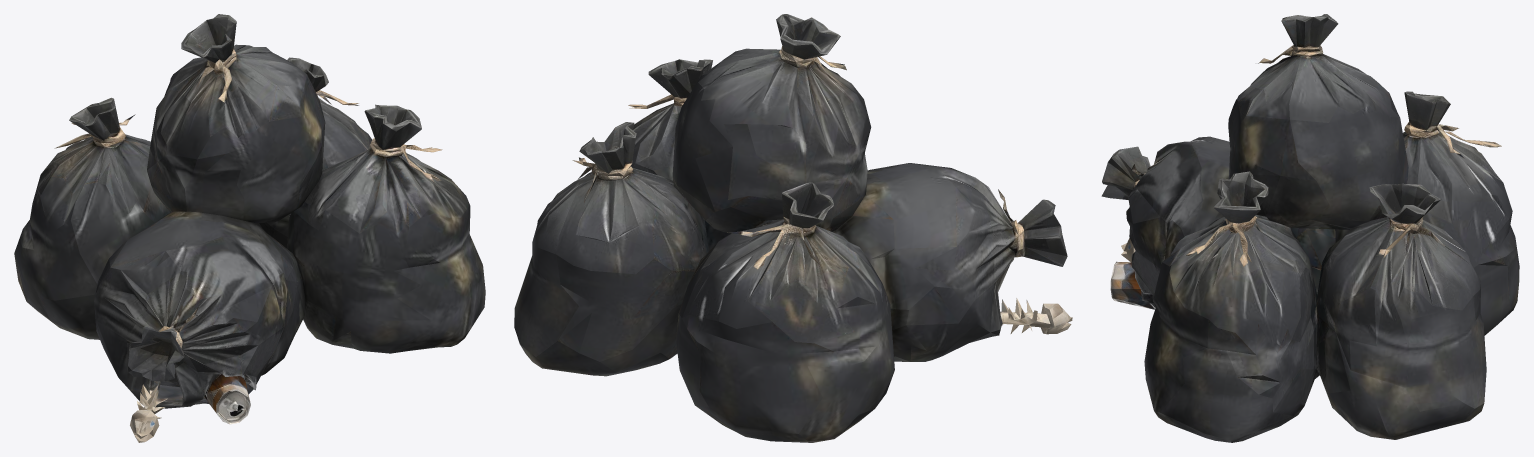
The model's file is prop-binbags.glb.
The picture shows the model from 3 angles, left to right: view 1: azimuth 30°, elevation 25°; view 2: azimuth 150°, elevation 25°; view 3: azimuth 270°, elevation 25°; orthographic projection. The views are drawn at different scales.
Size of the model in its own units: 1.89 by 1.48 by 1.66.
1 material, 1 textured.
